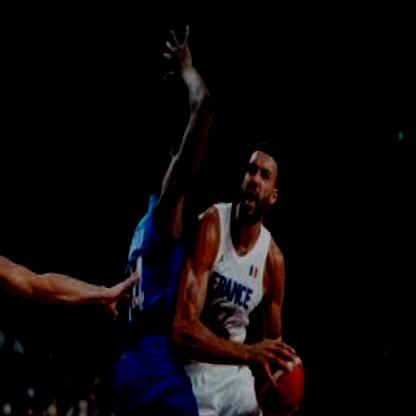basketball: (256, 336, 313, 416)
